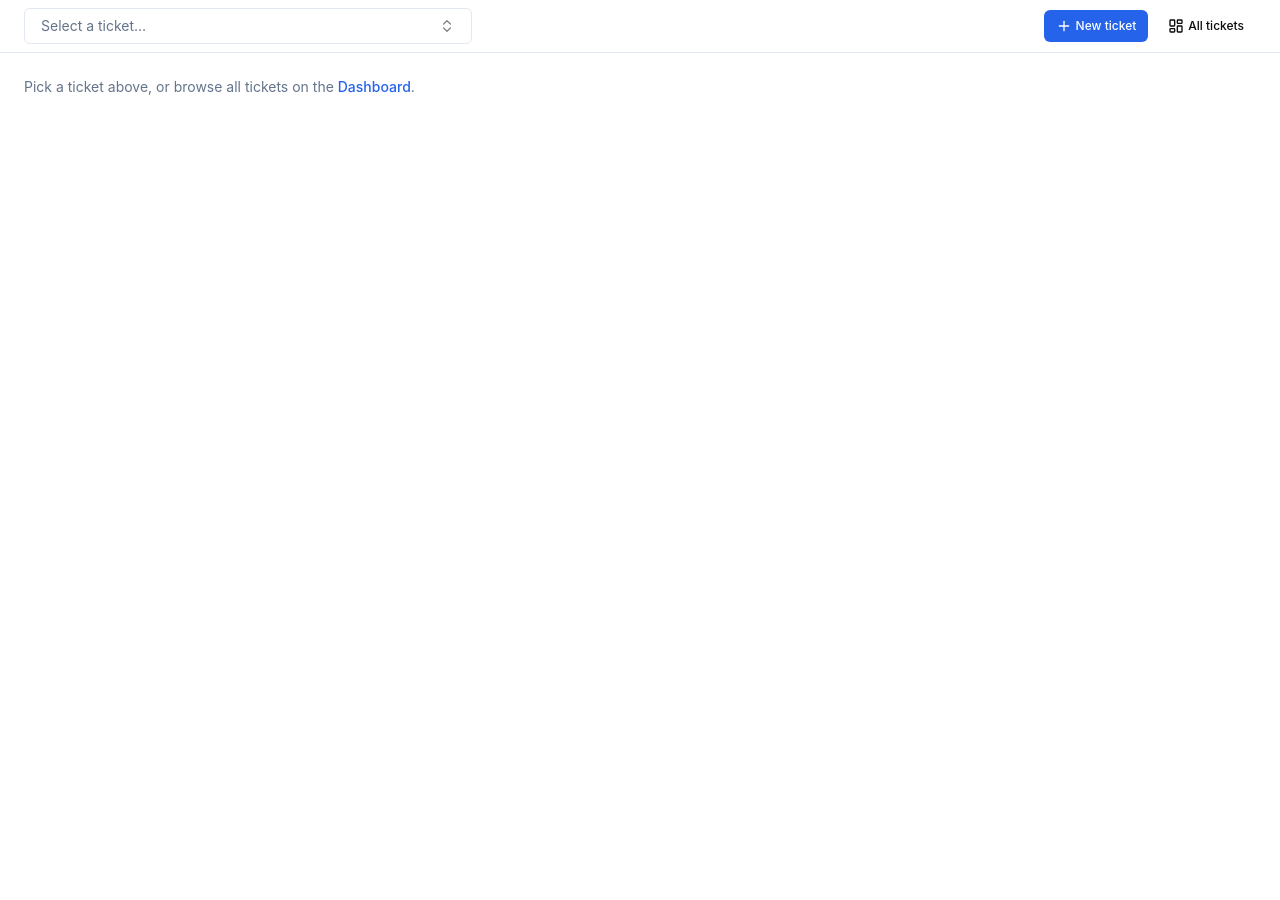
NewTicketDialog › selects the created ticket and shows the output
Click the button "New ticket" at {"x": 1096, "y": 26}, box [1044,10,1148,42]
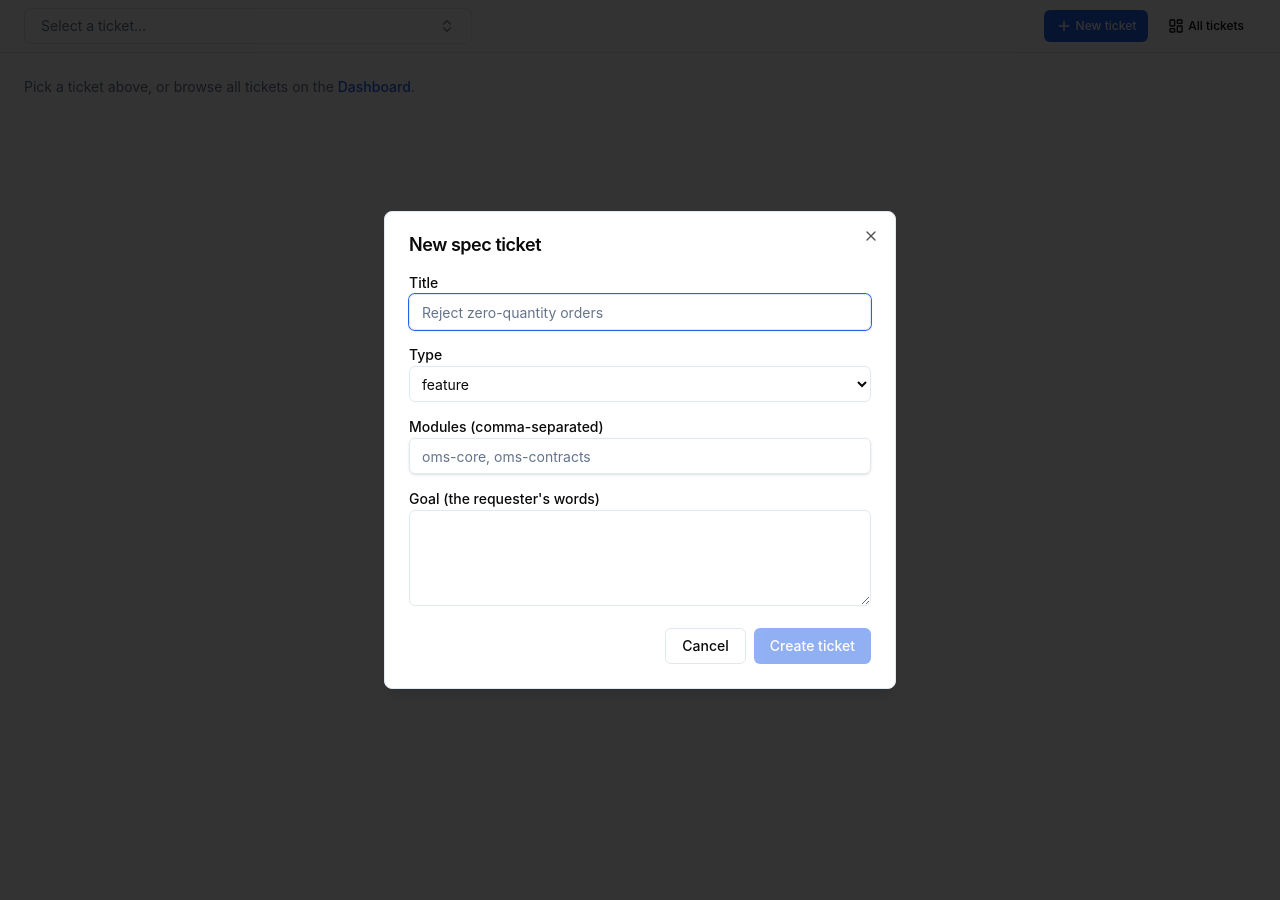
Type "Reject zero qty" into the field labelled "Title" at {"x": 640, "y": 312}, box [409,294,871,330]
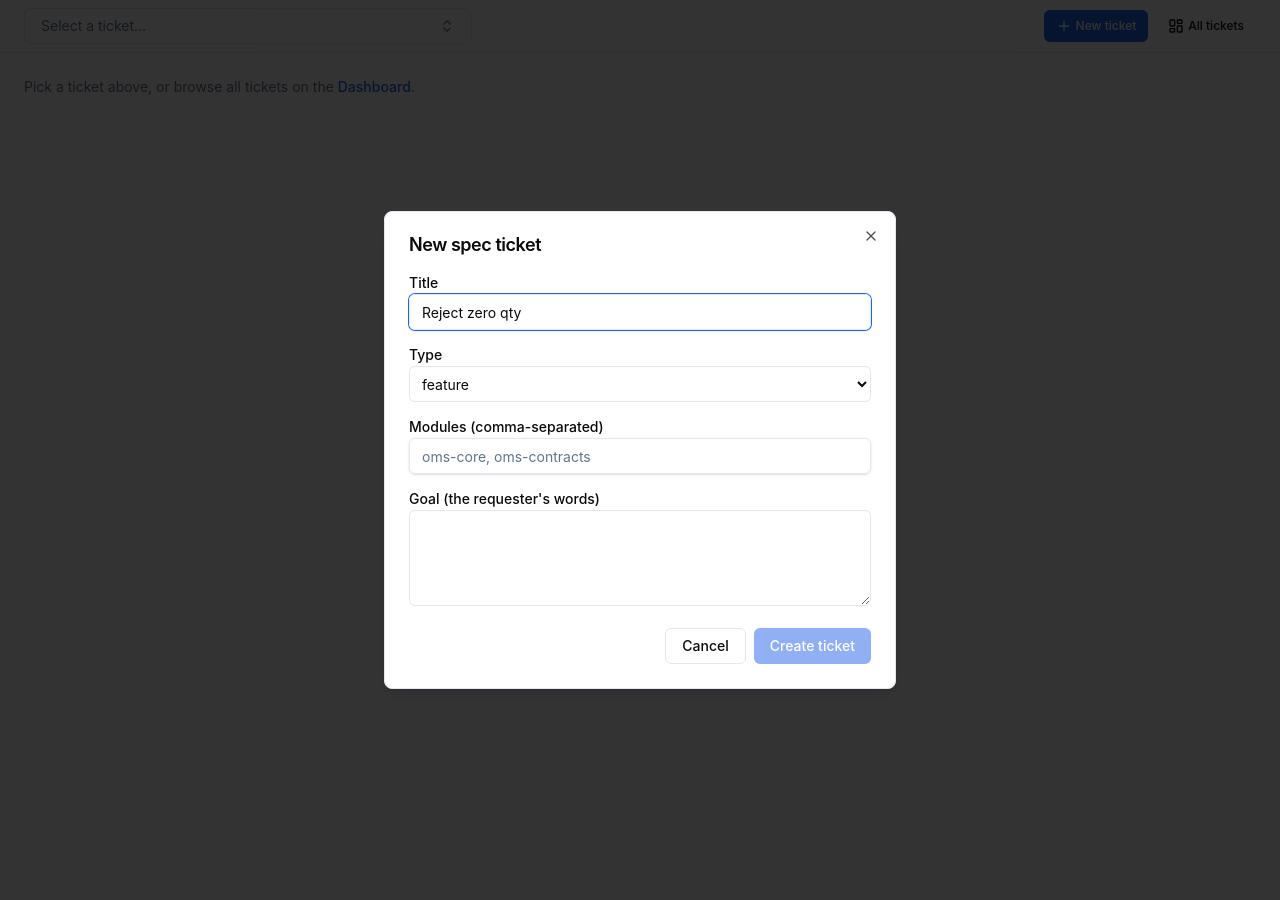
Select "fix" in the dropdown labelled "Type" at {"x": 640, "y": 384}, box [409,366,871,402]
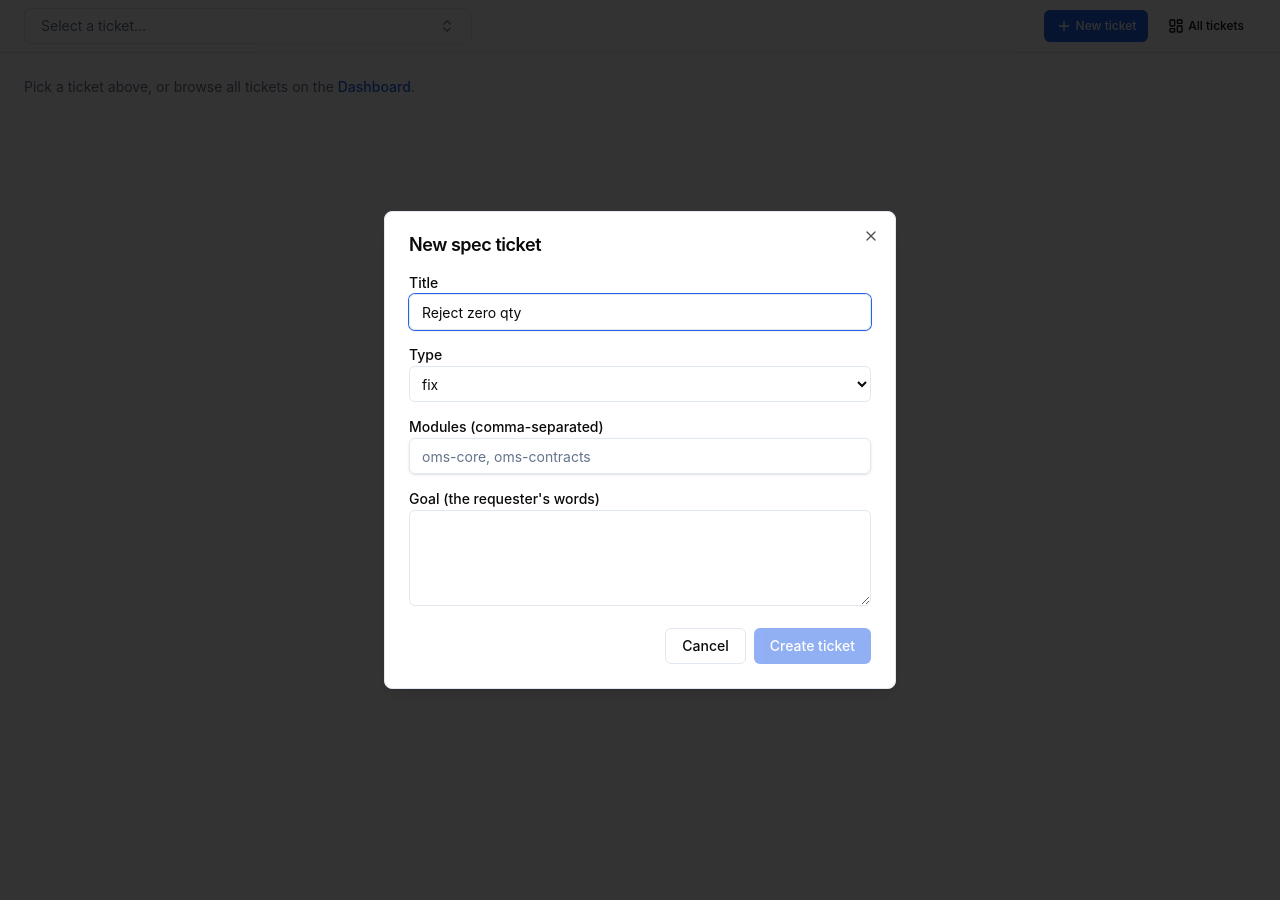
Type "oms-core, nope" into the field labelled "Modules (comma-separated)" at {"x": 640, "y": 456}, box [409,438,871,474]
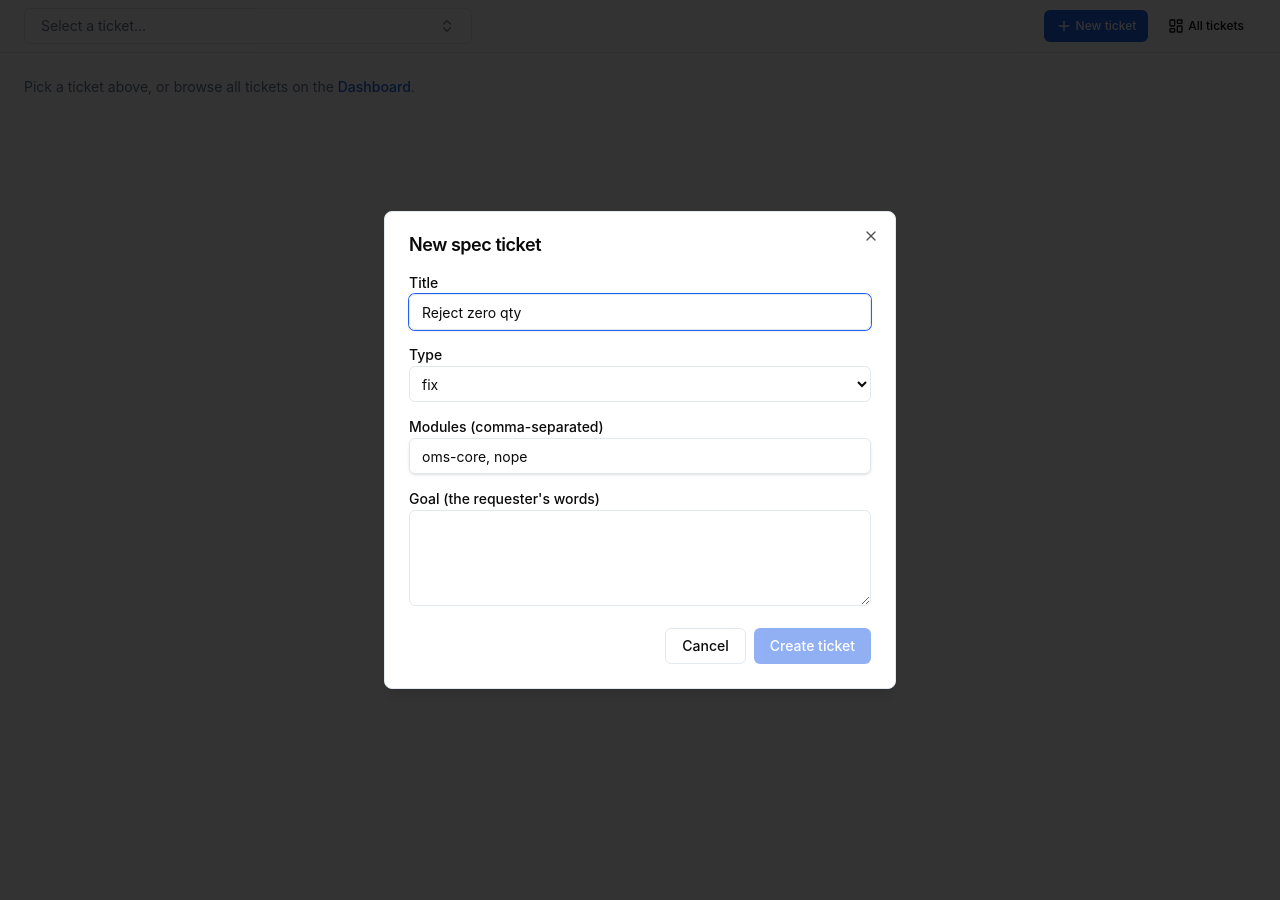
Type "Zero quantity is rejected." into the text box labelled "Goal (the requester's words)" at {"x": 640, "y": 558}, box [409,510,871,606]
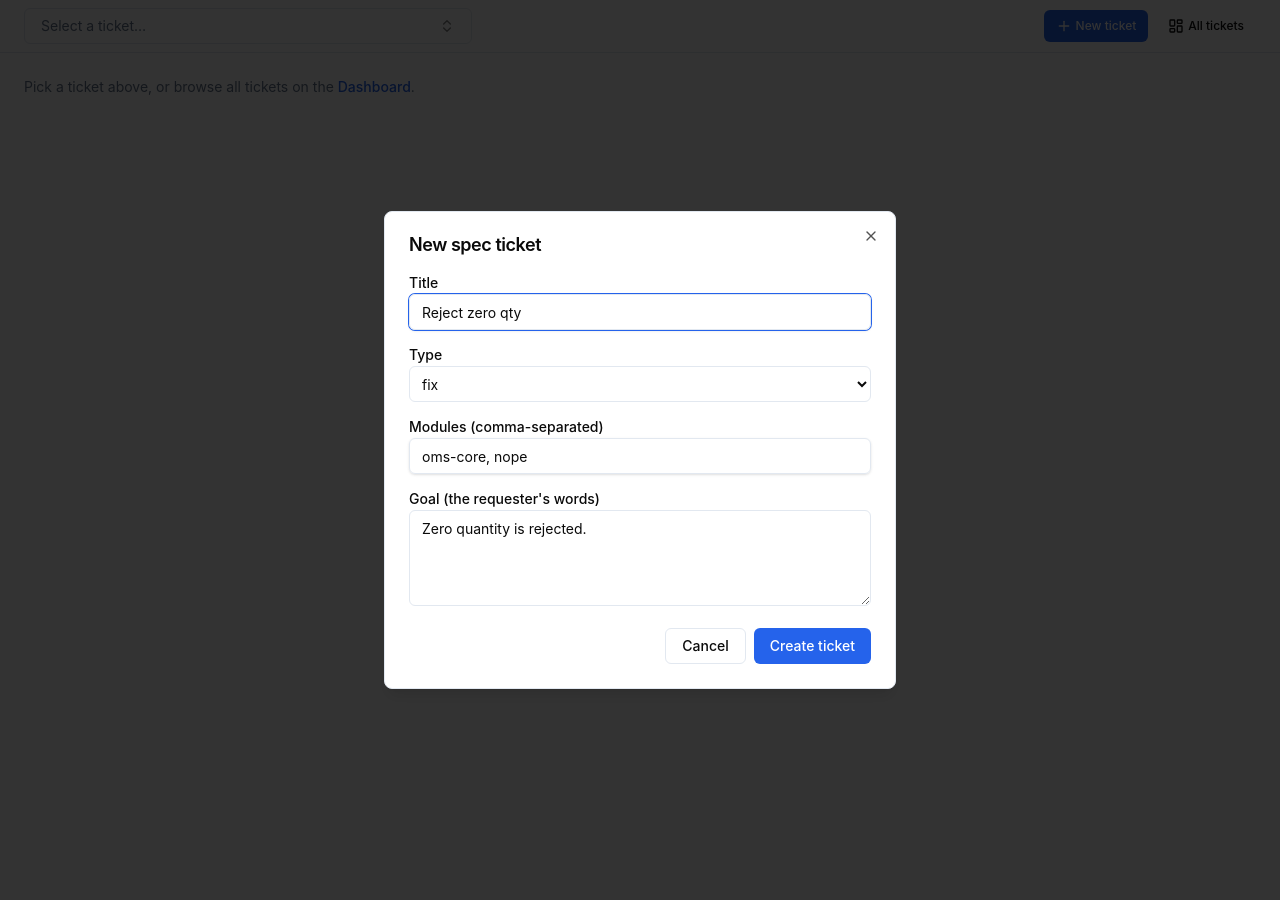
Click the button "Create ticket" at {"x": 812, "y": 646}, box [754,628,871,664]
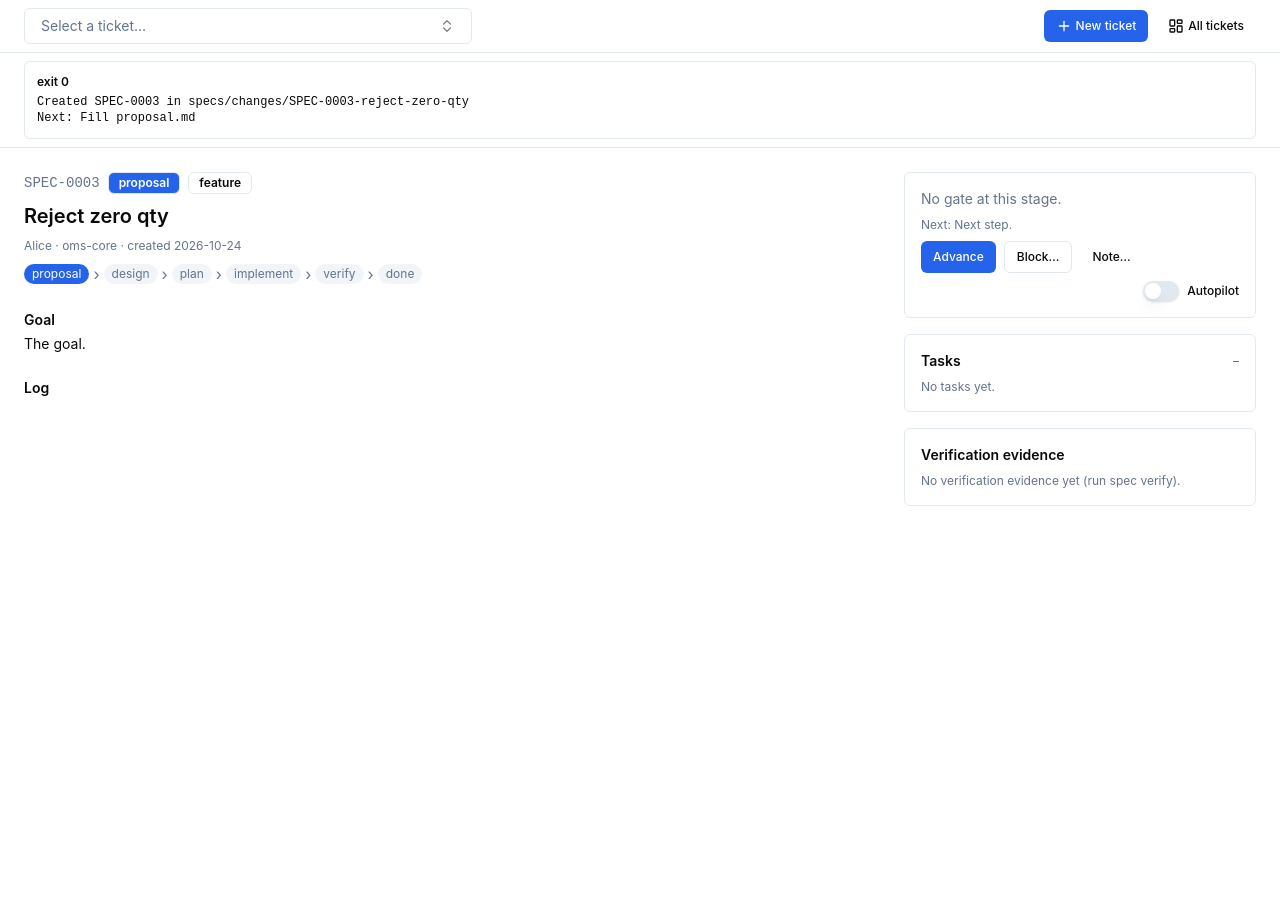
Now the text "Created SPEC-0003" is shown, box [37,95,469,125]
Now the text "exit 0" is shown once, box [37,74,69,89]
